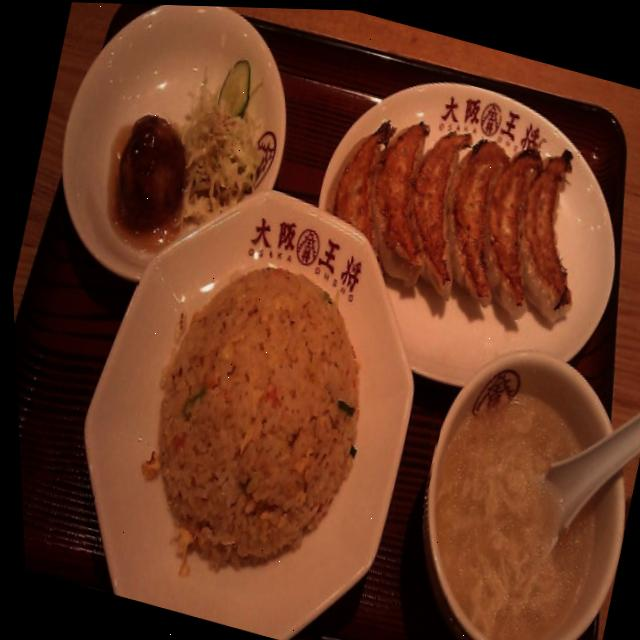汤锅炖物: (373, 323, 640, 640)
米饭主食: (41, 162, 454, 640)
蔬菜料理: (164, 51, 278, 227)
